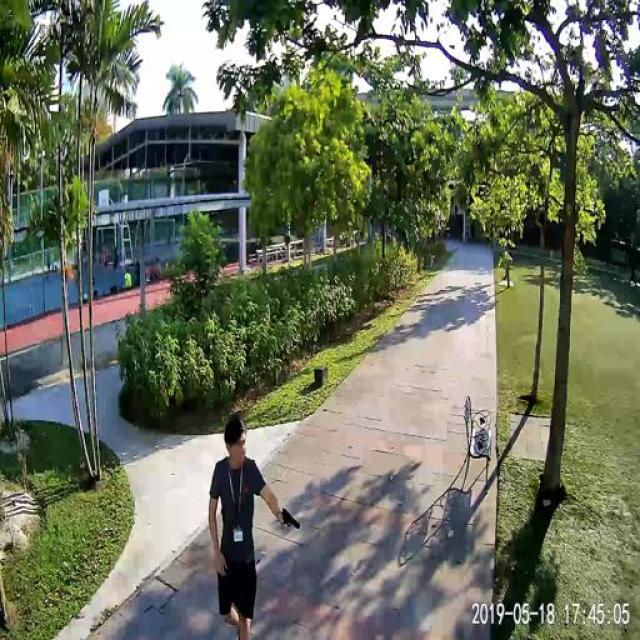Gun: (275, 499, 307, 537)
